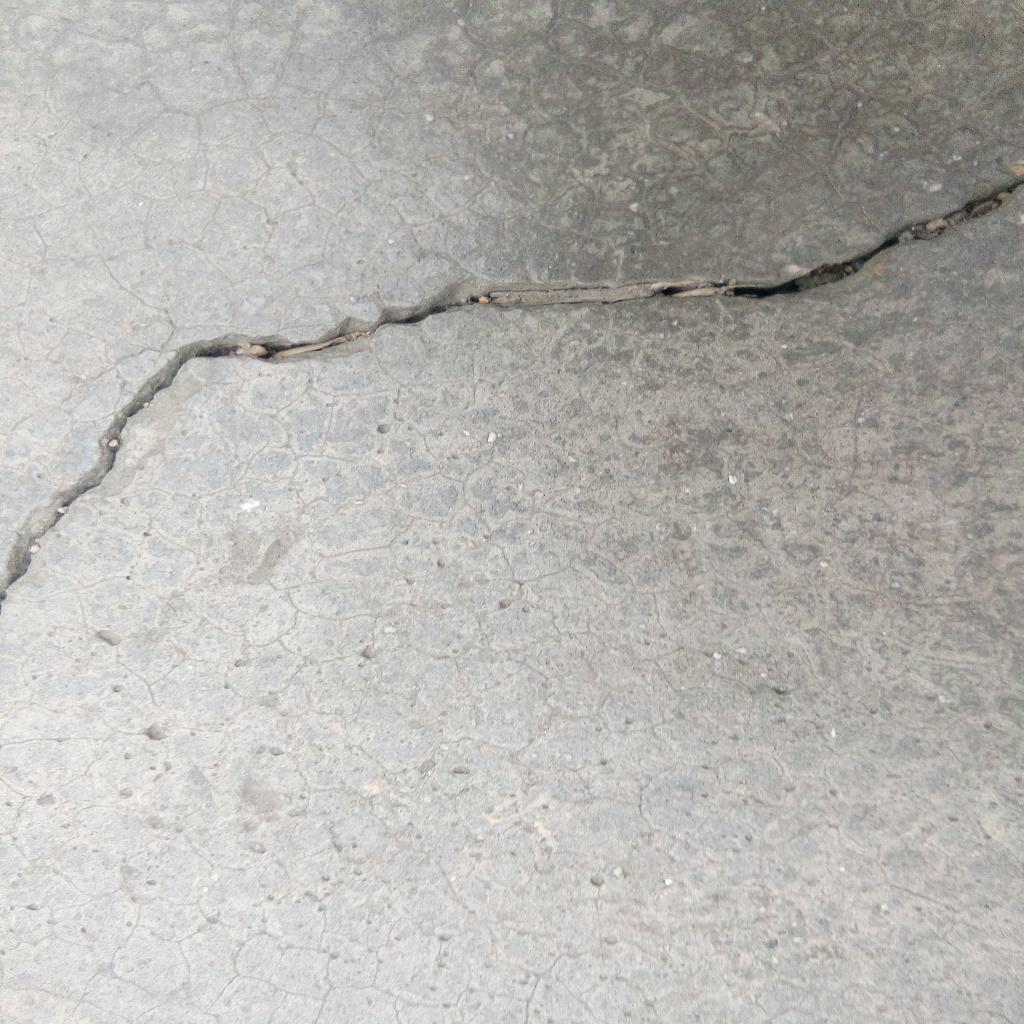Crack: (1, 175, 1024, 619)
